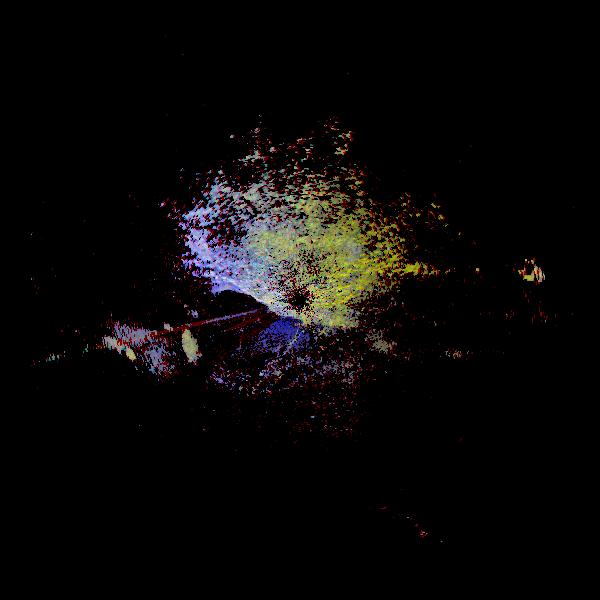roost: (143, 318, 203, 378), (83, 333, 134, 384)
